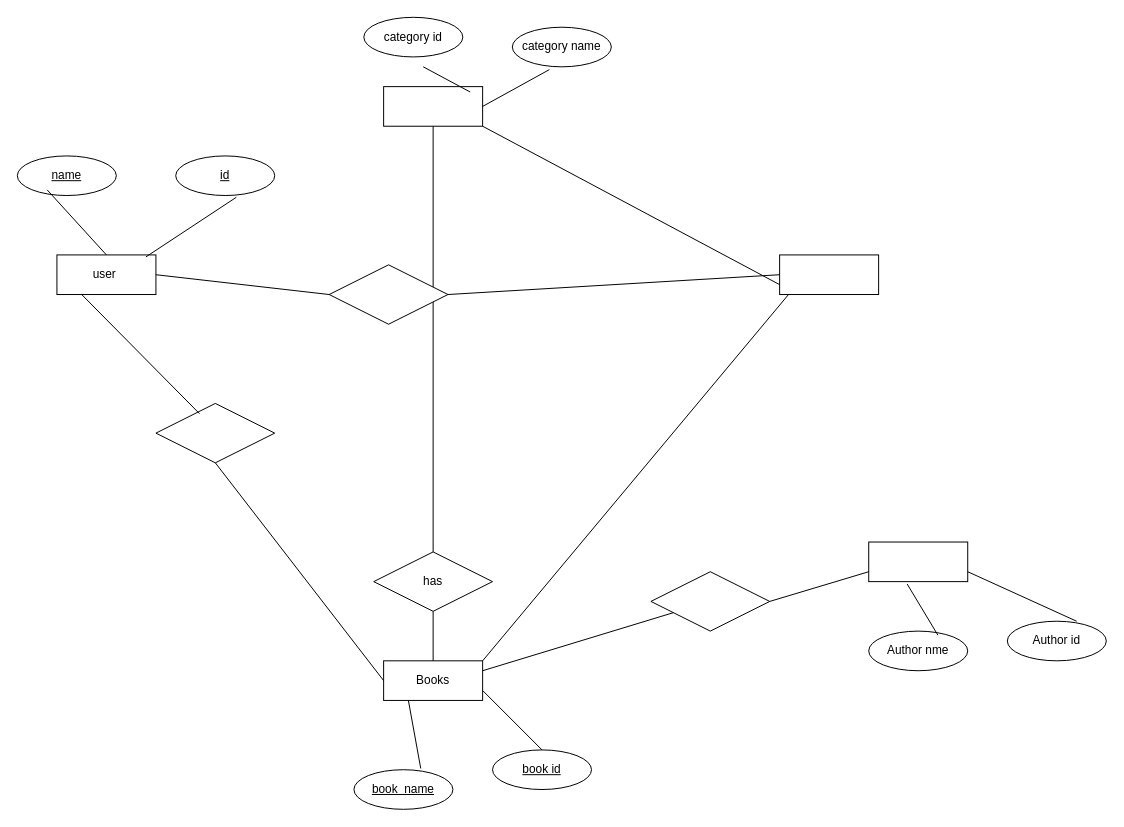
Some shapes in this 1124 by 827 pixel diagram are drawn without their labels. Each missing label, with the centre of its shape:
"Admin" belongs at point (829, 274).
"Author" belongs at point (918, 561).
"Categories" belongs at point (433, 106).
"lend" belongs at point (215, 432).
"manages" belongs at point (388, 294).
"writes" belongs at point (710, 601).
